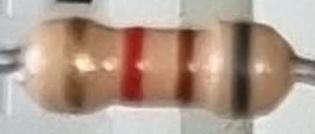Brown: (173, 29, 198, 104)
Green: (227, 20, 258, 121)
Red: (119, 28, 148, 107)
Side-Gold: (61, 20, 94, 112)
